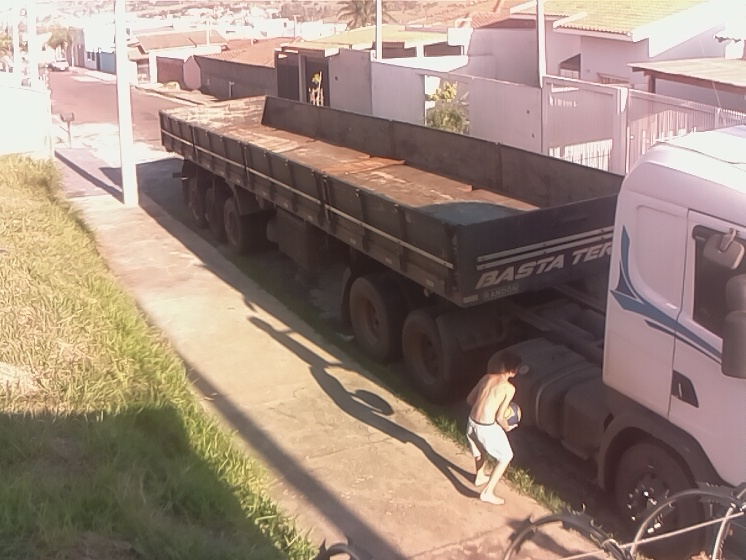person: (465, 349, 528, 507)
